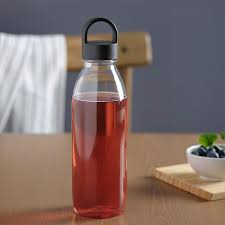Botella: (72, 18, 127, 217)
